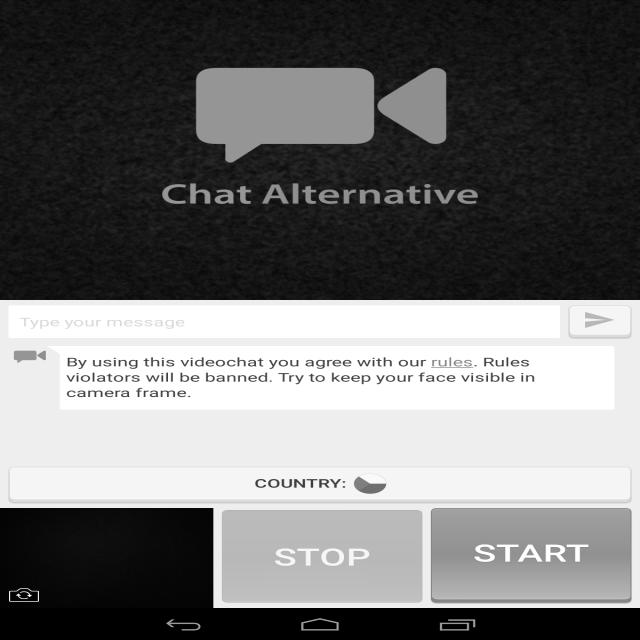Button: (4, 464, 637, 507), (424, 510, 637, 607)
EditText: (5, 300, 562, 343)
ImageButton: (568, 304, 634, 338)
ImageView: (175, 58, 476, 168)
TextView: (64, 354, 544, 400), (160, 184, 478, 210)
